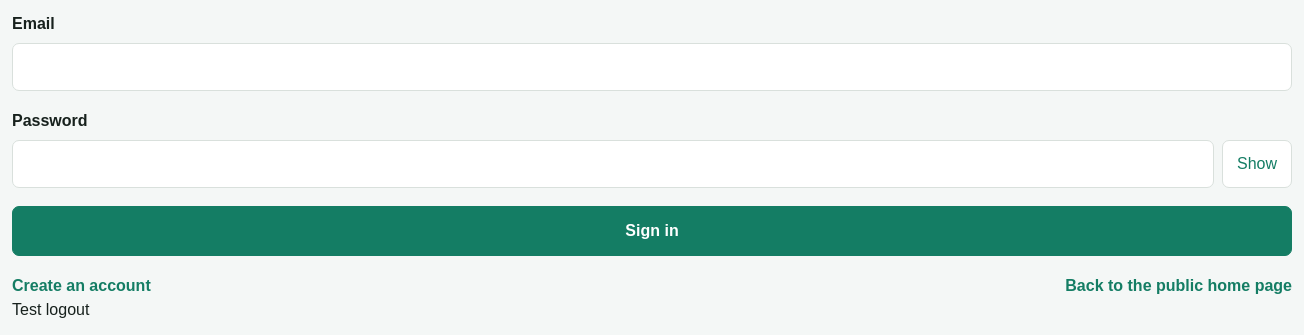
Test: LoginForm › toggles password visibility with a real button and preserves the value
Expected: the field labelled "Email" is shown, left=12, top=43, right=1292, bottom=91
Type "example-password" into the password field labelled "Password" at x=613, y=164, box left=12, top=140, right=1214, bottom=188
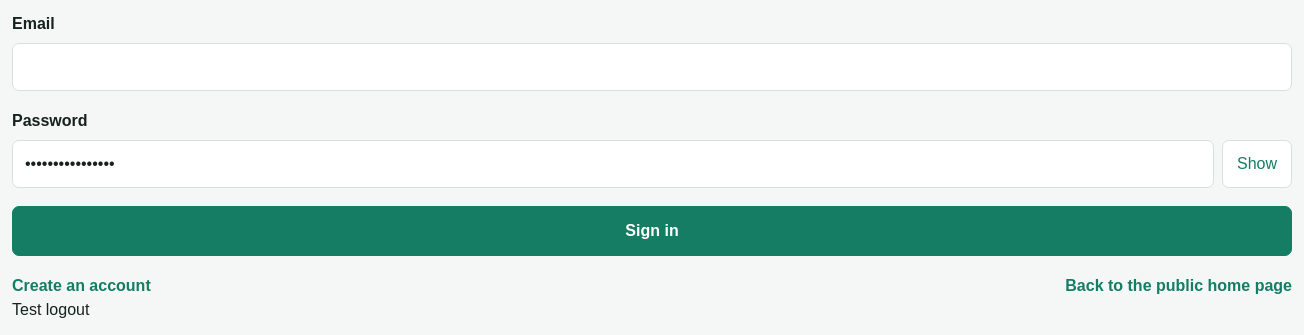
Click the button with aria-label "Show password" at x=1257, y=164, box left=1222, top=140, right=1292, bottom=188
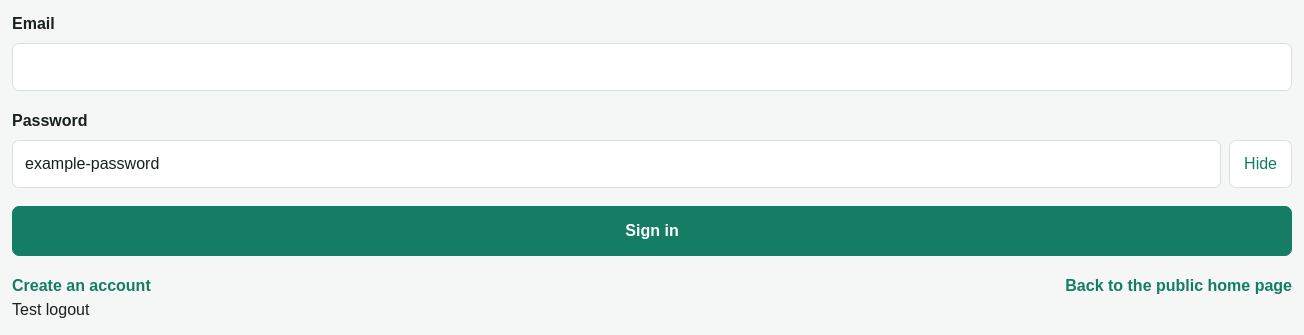
Now the field labelled "Password" shows its text, box left=12, top=140, right=1221, bottom=188
Click the button with aria-label "Hide password" at x=1261, y=164, box left=1229, top=140, right=1292, bottom=188
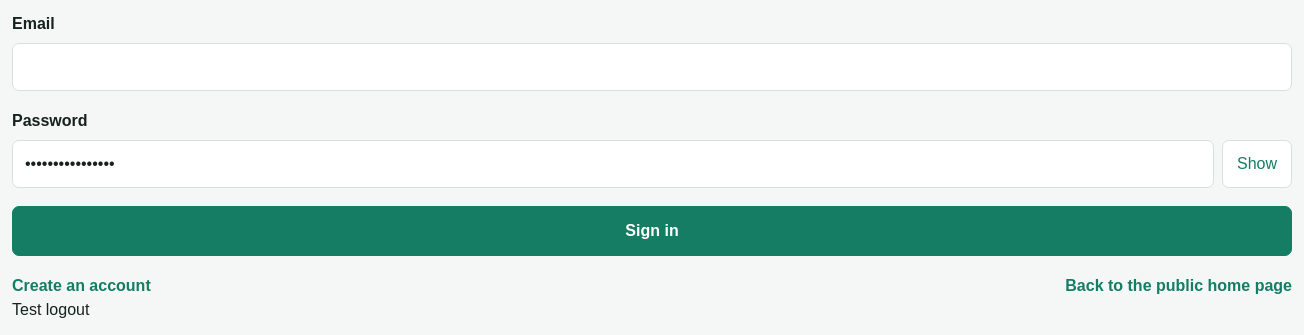
Now the password field labelled "Password" hides its text, box left=12, top=140, right=1214, bottom=188
